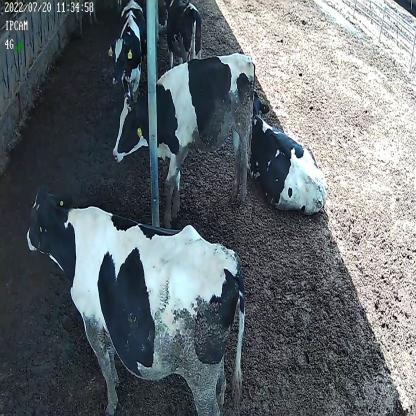cow: (26, 178, 247, 416), (114, 49, 256, 232), (250, 86, 328, 216), (112, 0, 145, 102), (166, 1, 205, 68)
